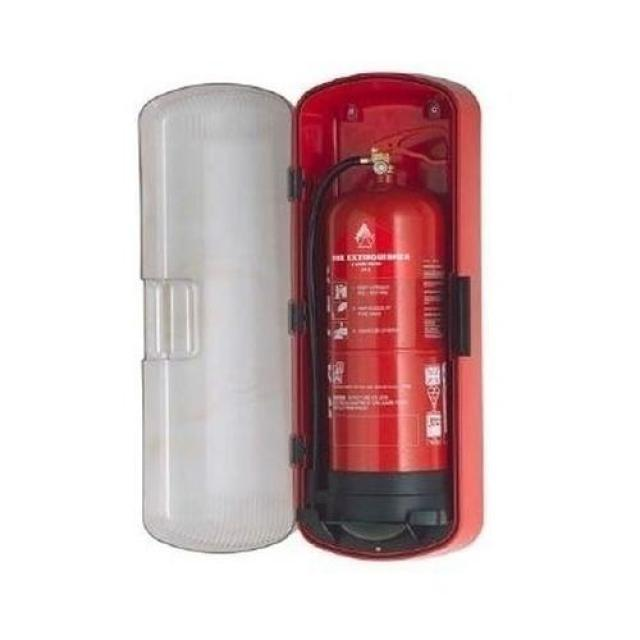fire_extinguisher: (296, 116, 462, 529)
